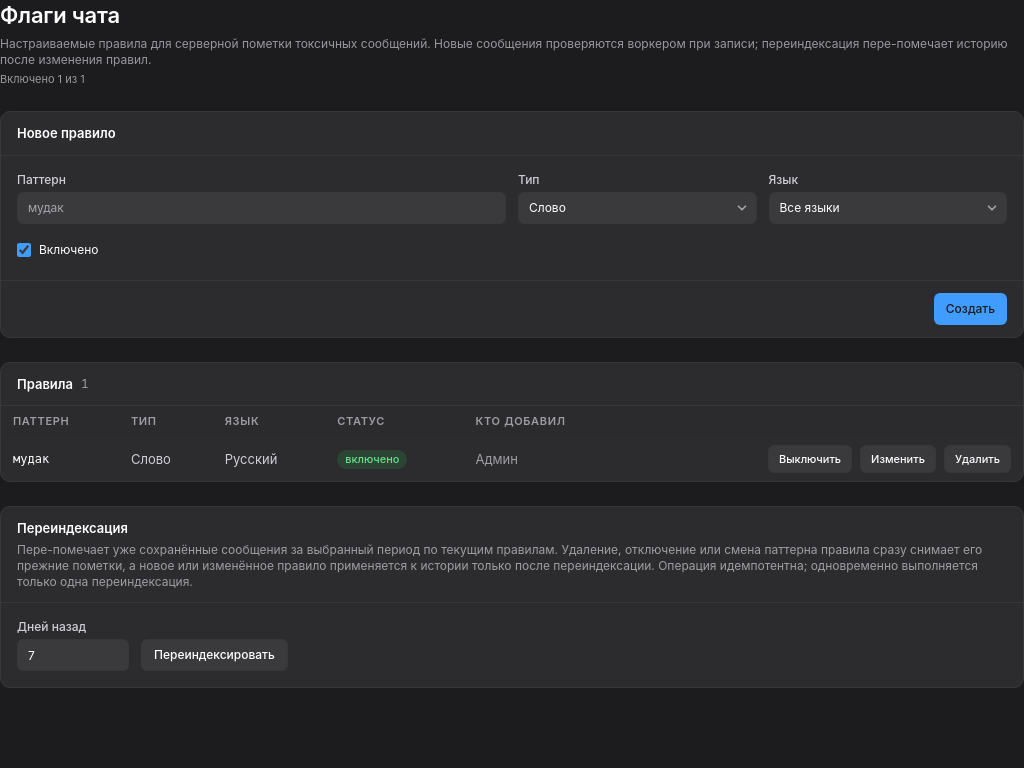
Test: ChatFlagsPage › deletes a rule only after the confirmation dialog is confirmed
Expected: the text "мудак" is shown, [1, 437, 119, 481]
Click the button "Удалить". click: (977,459)
box: [944, 445, 1011, 473]
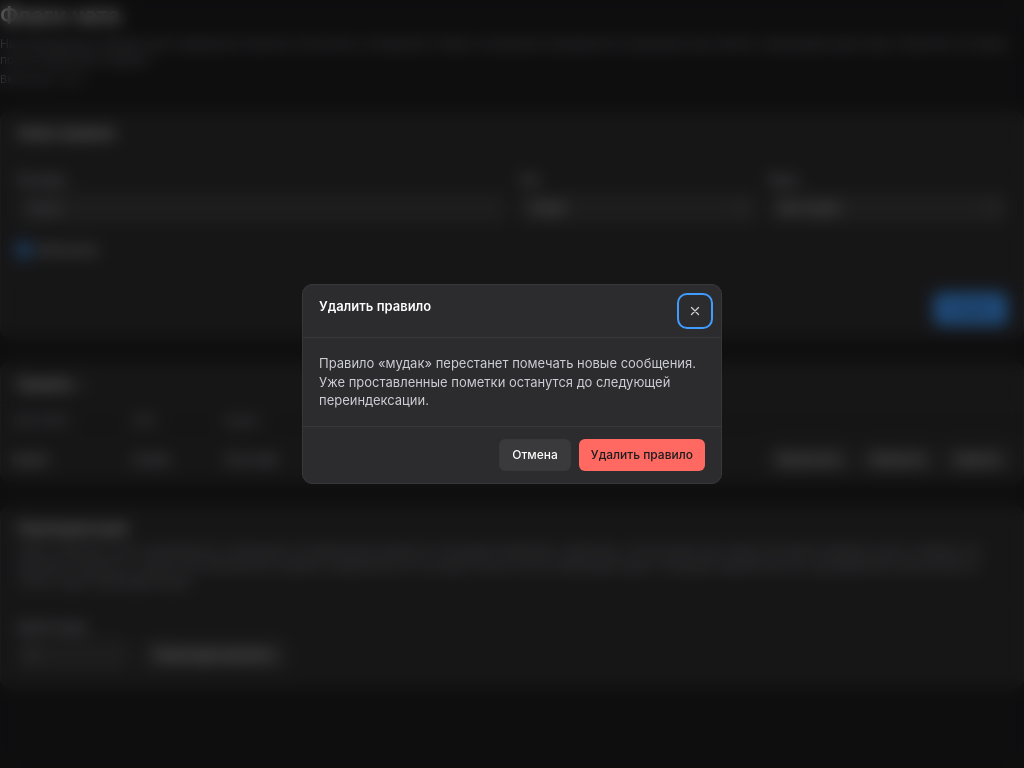
Expected: the dialog "Удалить правило" shows "мудак", [386, 355, 424, 371]
Click the button "Удалить правило". click: (642,455)
box: [579, 439, 705, 471]
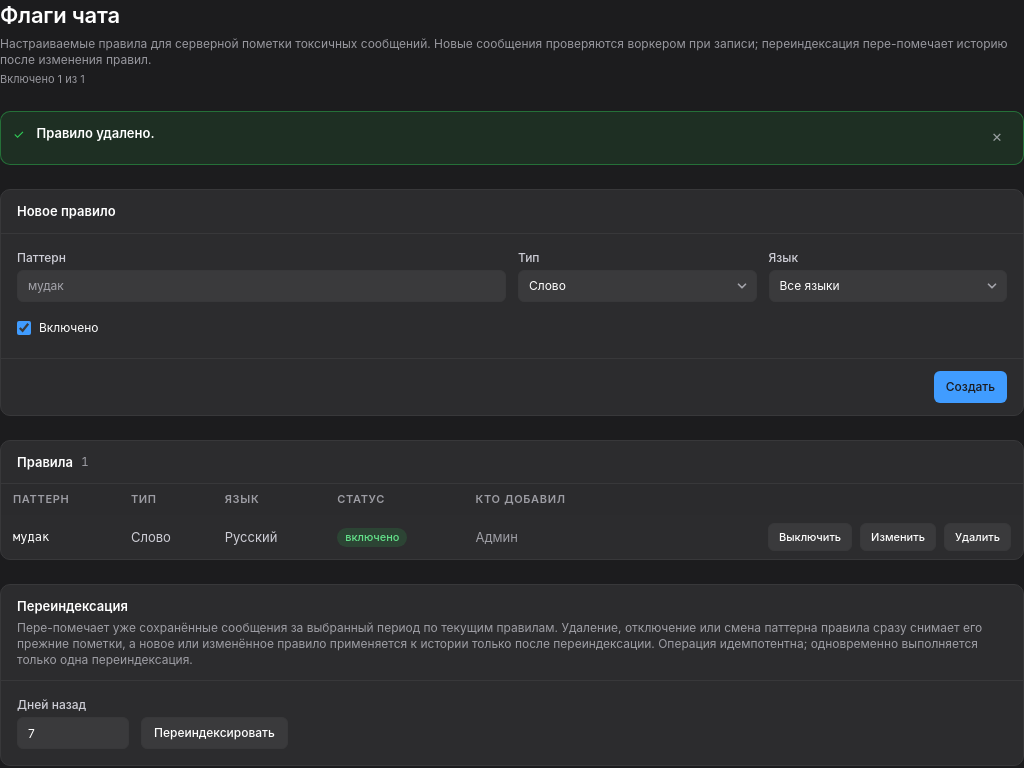
Expected: the text "Правило удалено." is shown, [36, 125, 155, 141]
